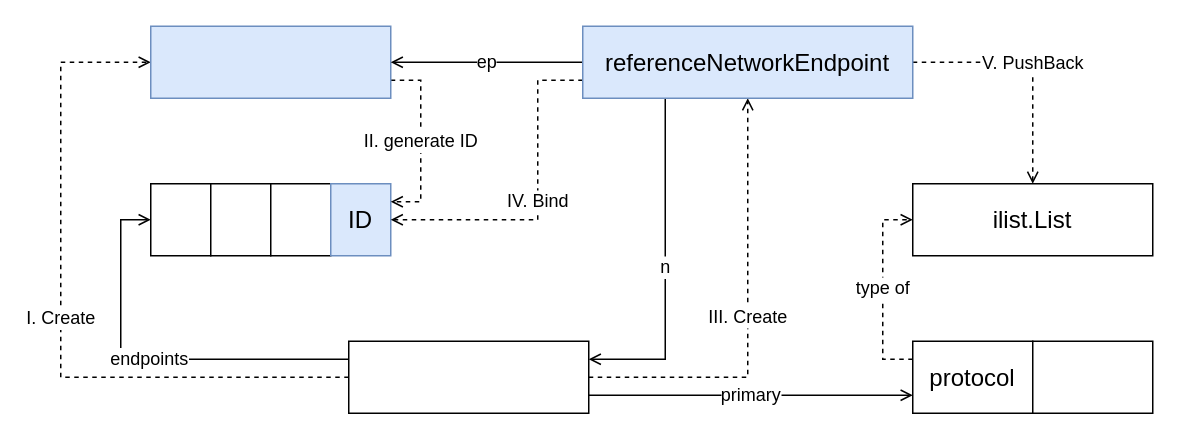
Some shapes in this 1179 by 440 pixel diagram are drawn without their labels. Each missing label, with the box of its shape:
NetworkEndpoint: (149, 25, 391, 98)
NIC: (347, 340, 589, 413)
